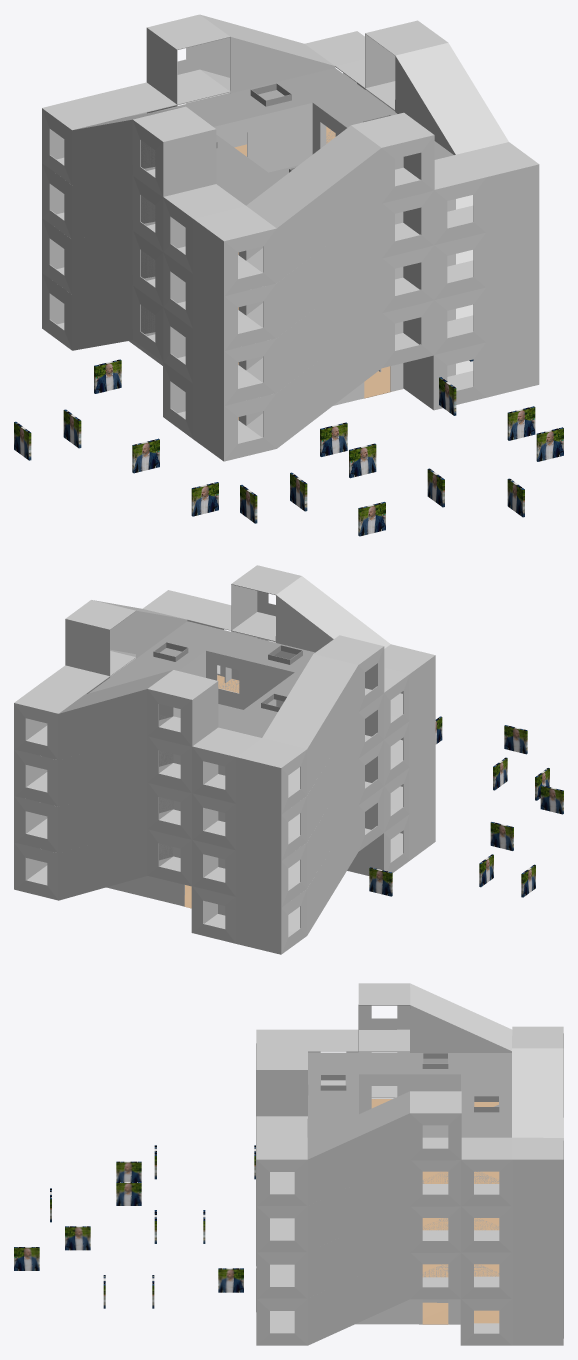
The model's file is museo2.glb.
3 renders of one model, top to bottom at view 1: azimuth 30°, elevation 25°; view 2: azimuth 150°, elevation 25°; view 3: azimuth 270°, elevation 25°, orthographic. The views are drawn at different scales.
Visible parts, largest first — view 1: Cube.016, Cube, web.014, web.019, web.026, web.030, web.015, web.027, web.022, web.023; view 2: Cube.016, Cube, web.019, web.023, web.030, web.022; view 3: Cube.016, Cube, web.013, web.025, web.024, web.029, web.028.
Part boxes in pixels (x1,y1,x2,y2): Cube.016: [42, 14, 539, 461]; Cube: [129, 68, 455, 425]; web.014: [507, 406, 535, 440]; web.019: [94, 359, 121, 393]; web.026: [349, 443, 376, 478]; web.030: [358, 502, 385, 536]; web.015: [536, 427, 563, 461]; web.027: [320, 422, 347, 456]; web.022: [132, 438, 159, 473]; web.023: [191, 482, 218, 516]; Cube.016: [14, 565, 435, 954]; Cube: [88, 621, 314, 915]; web.019: [369, 867, 392, 896]; web.023: [540, 785, 563, 814]; web.030: [504, 725, 527, 754]; web.022: [490, 822, 513, 850]; Cube.016: [256, 983, 563, 1345]; Cube: [308, 1052, 511, 1324]; web.013: [218, 1268, 243, 1292]; web.025: [65, 1226, 90, 1250]; web.024: [14, 1247, 39, 1270]; web.029: [116, 1182, 141, 1205]; web.028: [116, 1161, 141, 1181].
Bounding box in the file's own units: 36.03 × 20.16 × 43.05.
Materials: 4 (1 with a texture image).
